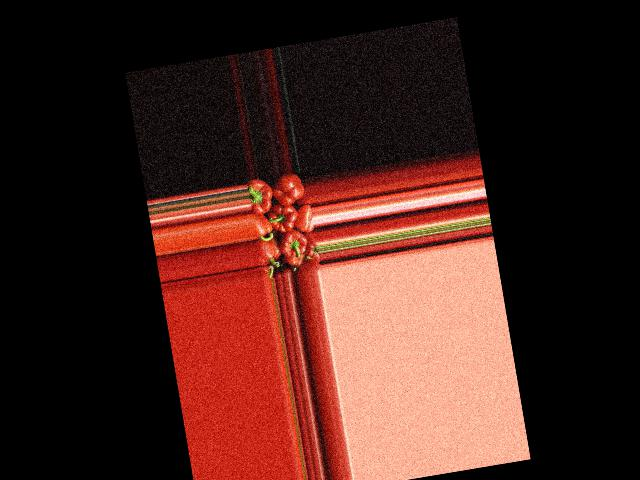bell_pepper: (294, 203, 314, 233)
